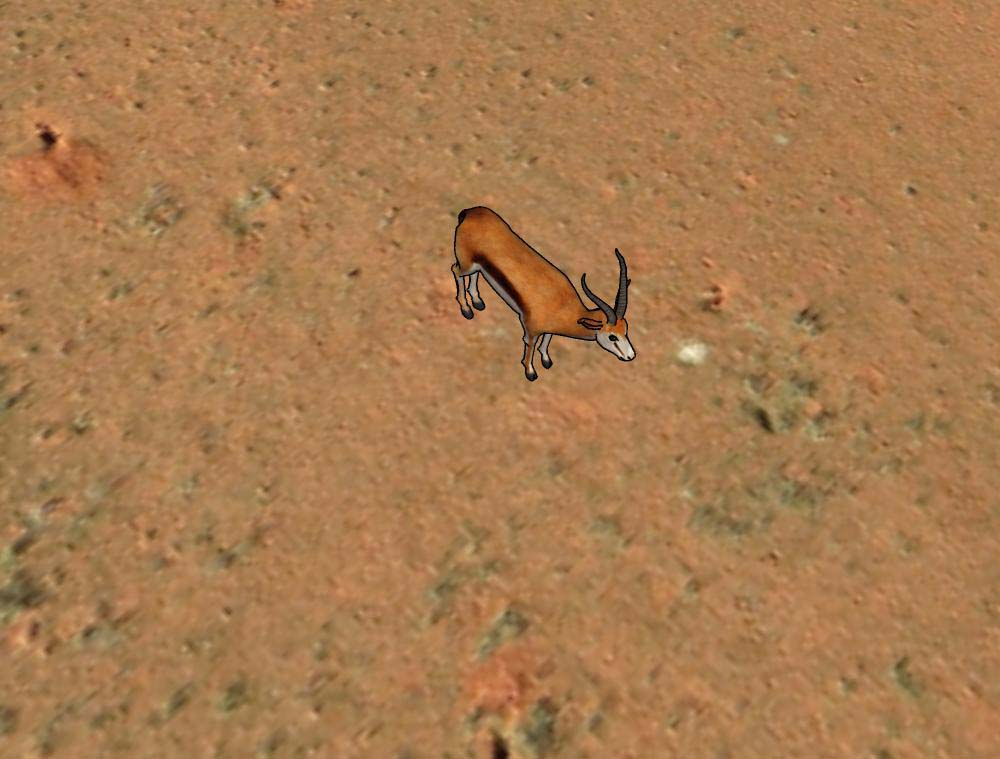springbok: (443, 196, 646, 388)
